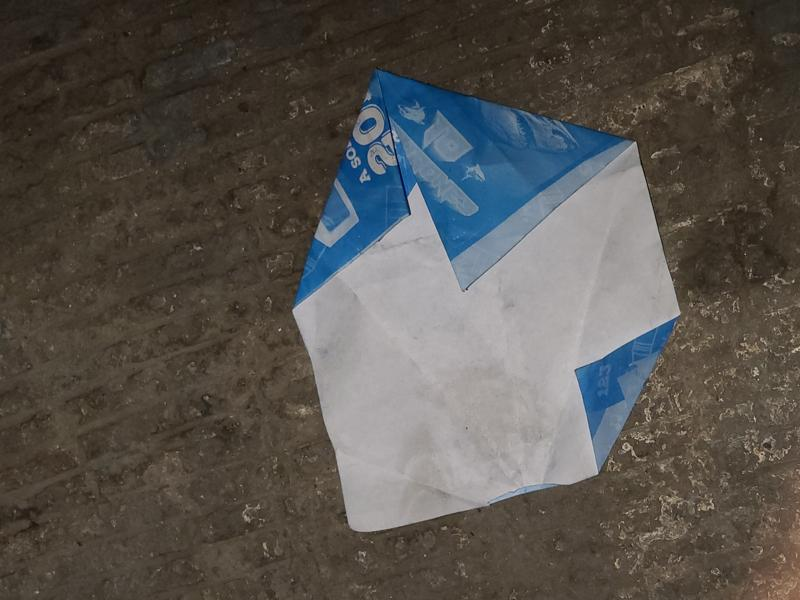papel: (291, 71, 682, 535)
